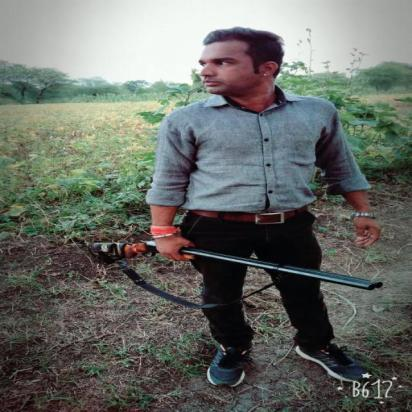Gun: (87, 238, 386, 292)
